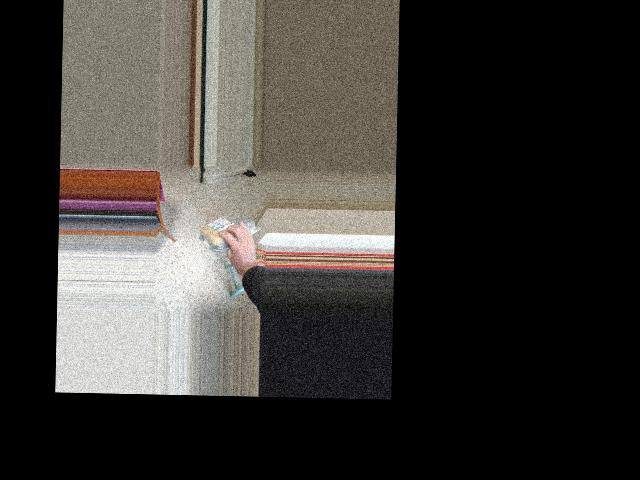cheese: (199, 215, 260, 247)
